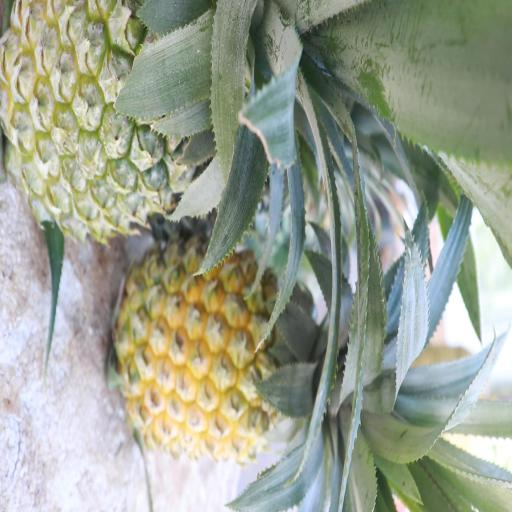------------------------------: (5, 0, 298, 237)
Pineapple - v8 v1: (123, 244, 364, 468)
